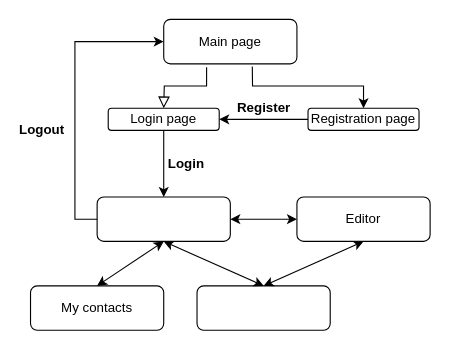
The diagram is 450 pixels wide and 350 high, and some of its shapes have lost their labels. Here are the shapes that lost their labels. From the top down, the centre of each, then its label:
the point at 163,218: Dashboard
the point at 263,307: My Files/Shared with me
